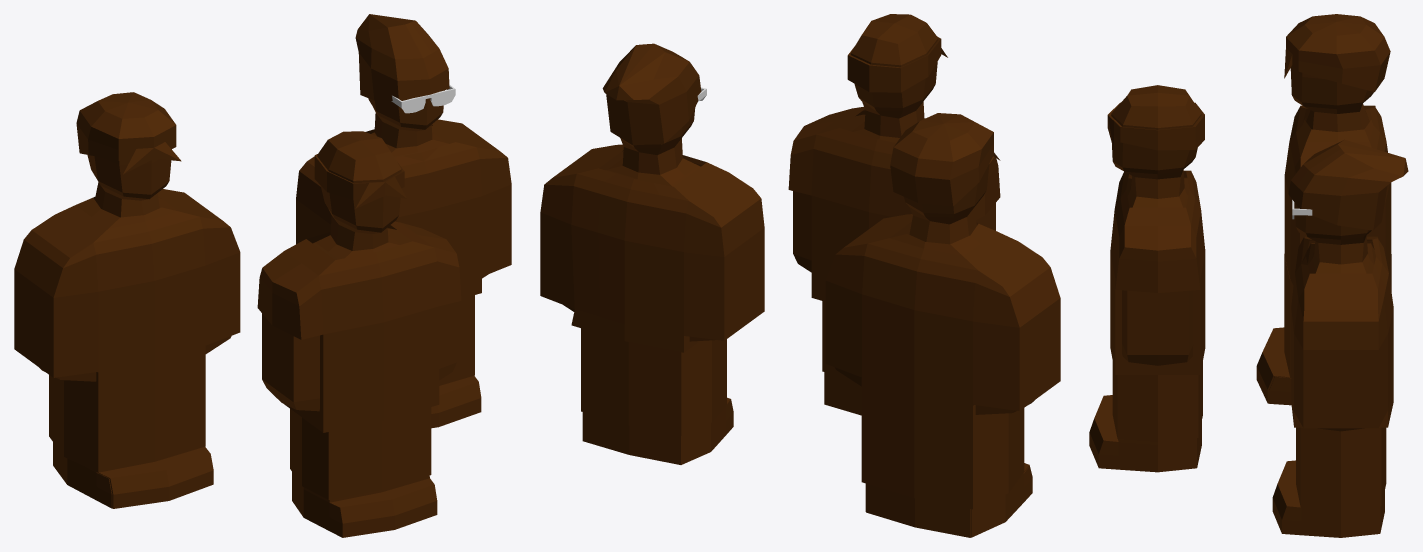
File: ballas.fbx
The picture shows the model from 3 angles, left to right: view 1: azimuth 30°, elevation 25°; view 2: azimuth 150°, elevation 25°; view 3: azimuth 270°, elevation 25°; orthographic projection. The views are drawn at different scales.
Visible parts, largest first — view 1: torso.002, torso, torso.001, shorts.001, skin, shorts, header, bandan.001, skin.001, boots, boots.001, skin.002 (+3 smaller); view 2: torso.002, torso.001, shorts.001, torso, shorts.002, skin, bandan.001, header, skin.001, boots.002, skin.002, boots.001 (+2 smaller); view 3: torso.001, skin, torso, header, shorts.002, bandan.001, shorts, torso.002, boots, skin.001, boots.002, skin.002 (+3 smaller).
Boxes of the visible parts, x1,y1,x2,y2 form: torso.002: [14, 189, 240, 377]; torso: [257, 221, 461, 432]; torso.001: [296, 119, 511, 298]; shorts.001: [49, 346, 205, 472]; skin: [262, 131, 456, 411]; shorts: [290, 407, 431, 499]; header: [355, 14, 449, 100]; bandan.001: [76, 92, 181, 174]; skin.001: [39, 155, 231, 508]; boots: [292, 472, 437, 537]; boots.001: [97, 447, 213, 508]; skin.002: [368, 90, 488, 278]; torso.002: [825, 214, 1060, 410]; torso.001: [540, 144, 764, 352]; shorts.001: [861, 378, 1024, 509]; torso: [788, 106, 1000, 301]; shorts.002: [581, 328, 726, 435]; skin: [793, 14, 995, 272]; bandan.001: [890, 113, 1000, 206]; header: [602, 43, 701, 145]; skin.001: [835, 164, 1034, 537]; boots.002: [582, 397, 733, 464]; skin.002: [563, 108, 715, 341]; boots.001: [866, 463, 1032, 537]; torso.001: [1291, 236, 1393, 428]; skin: [1111, 85, 1201, 365]; torso: [1110, 170, 1205, 374]; header: [1288, 139, 1408, 230]; shorts.002: [1296, 427, 1386, 510]; bandan.001: [1284, 14, 1390, 91]; shorts: [1112, 361, 1202, 441]; torso.002: [1284, 105, 1391, 285]; boots: [1089, 395, 1201, 472]; skin.001: [1269, 65, 1373, 405]; boots.002: [1272, 460, 1384, 537]; skin.002: [1295, 203, 1375, 431].
Bounding box in the file's own units: 297 × 233 × 184.
